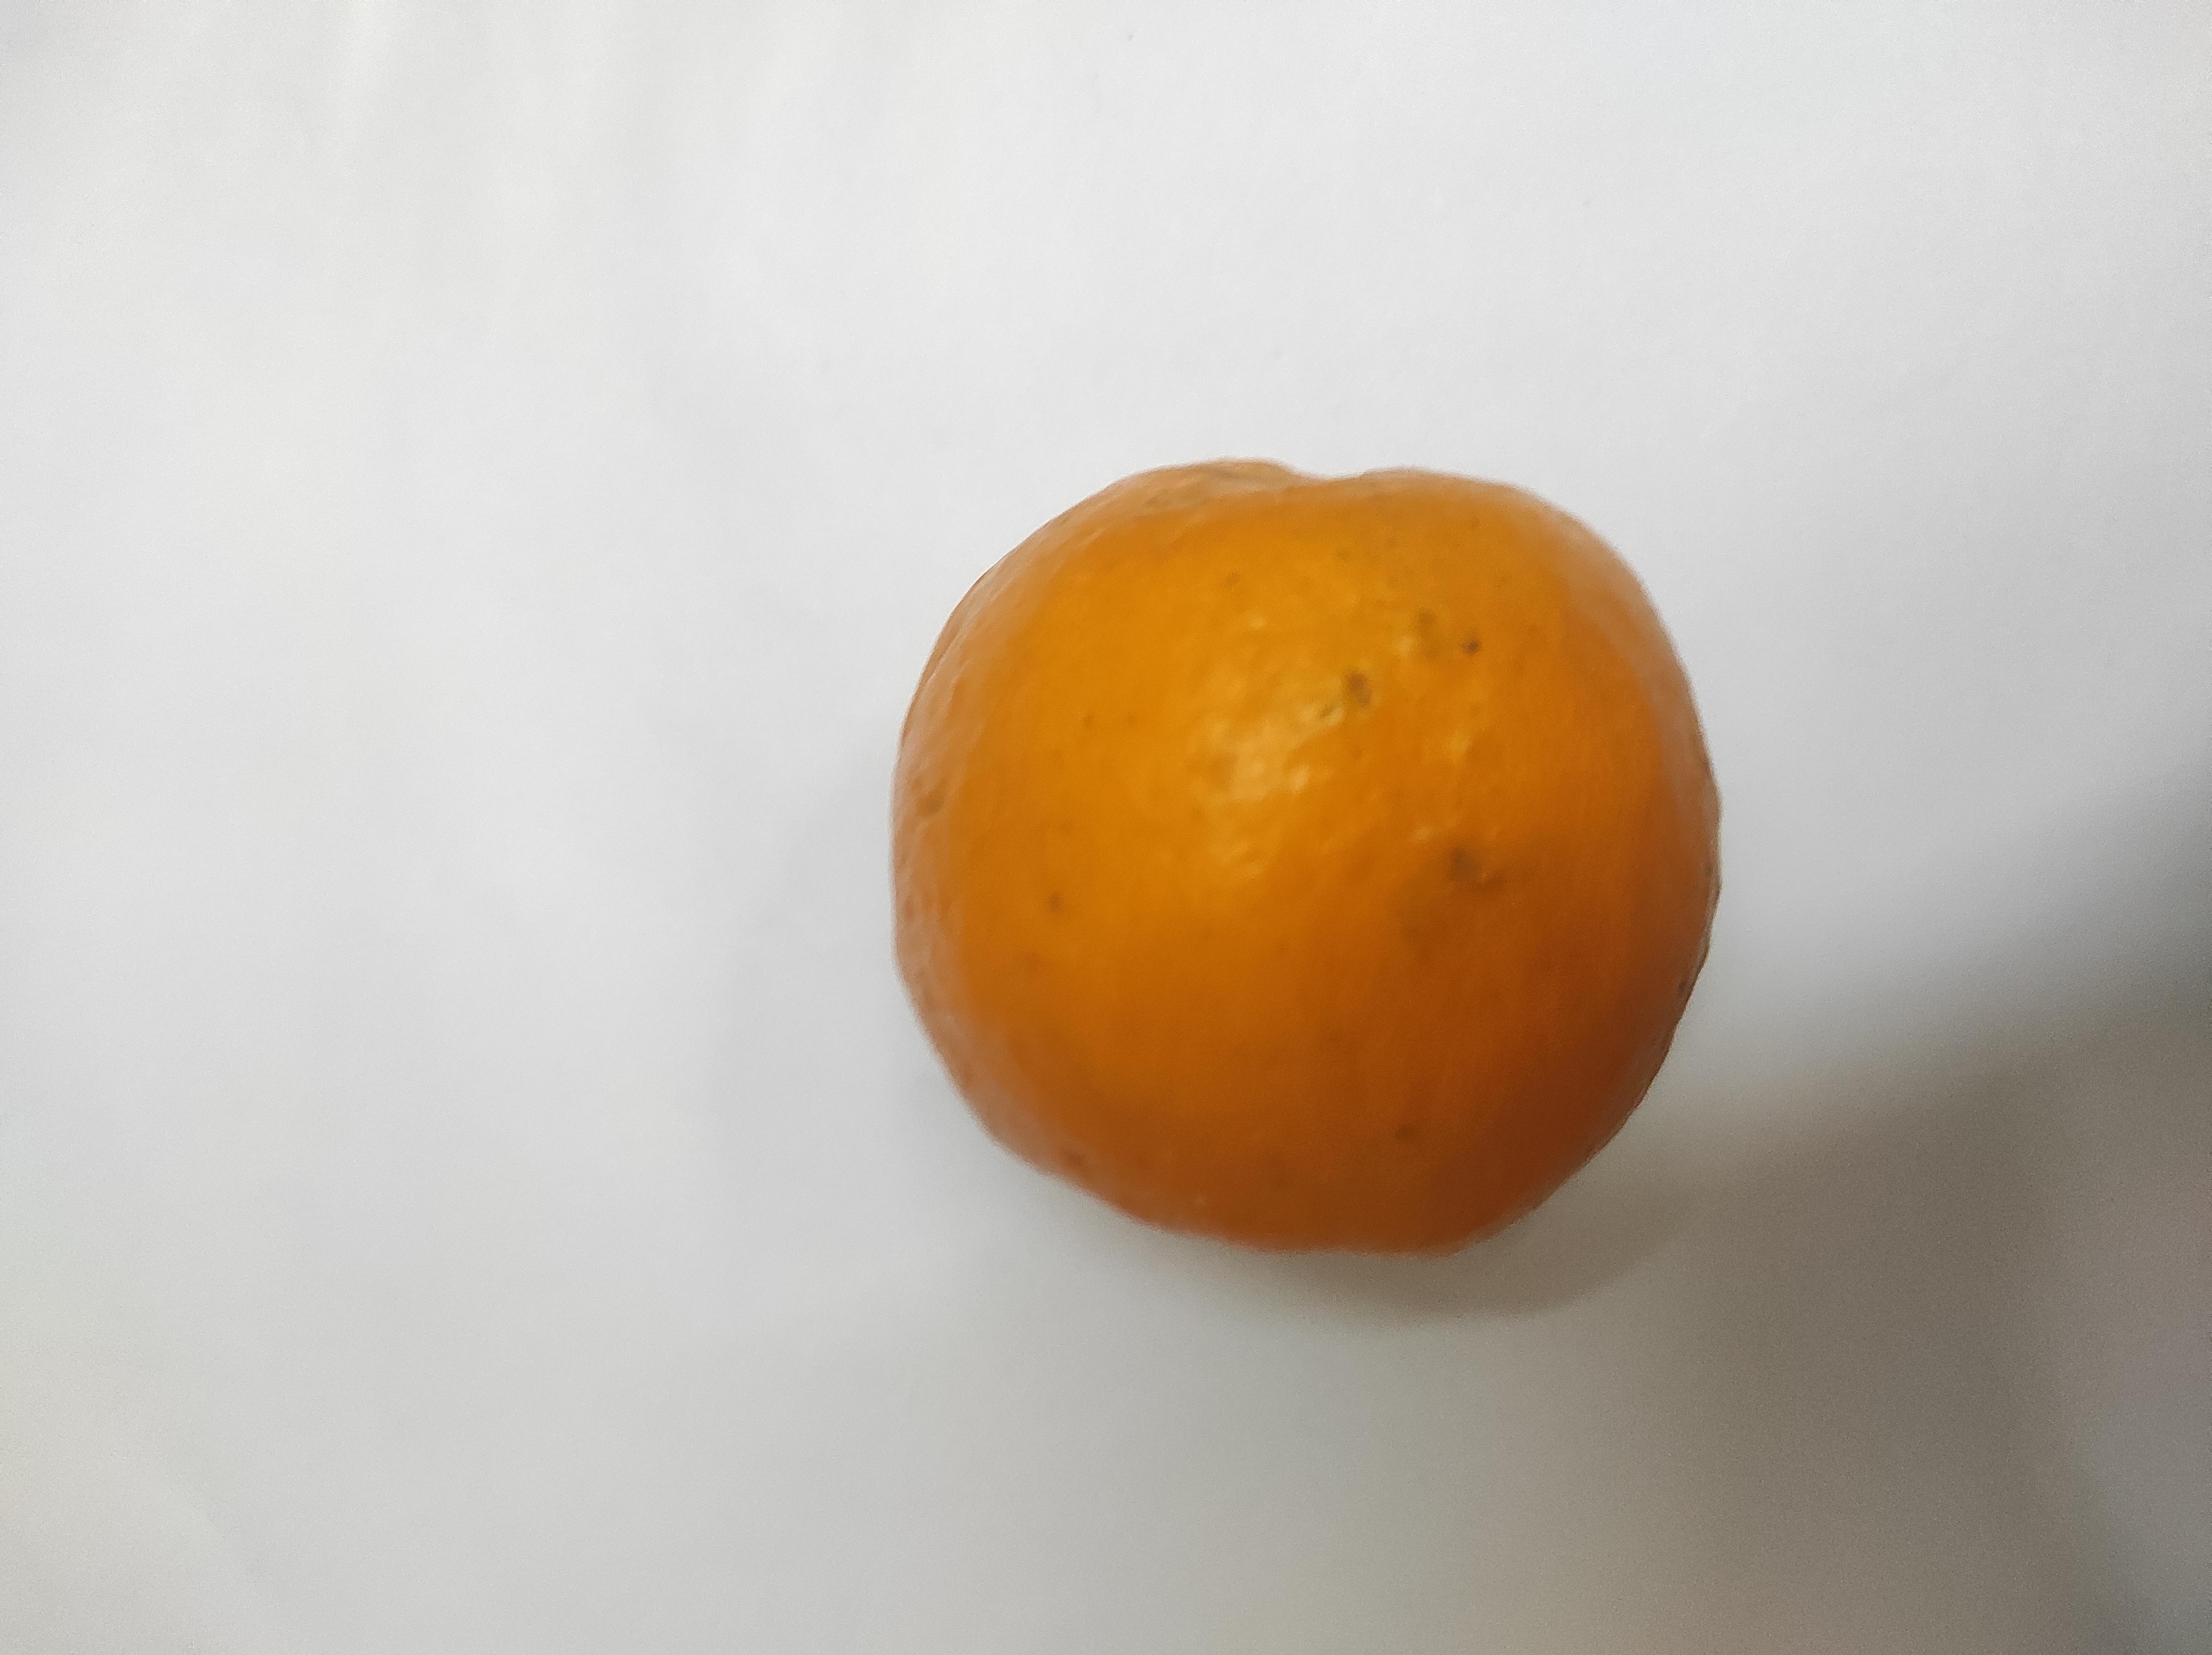Ripe: (901, 449, 1736, 1253)
